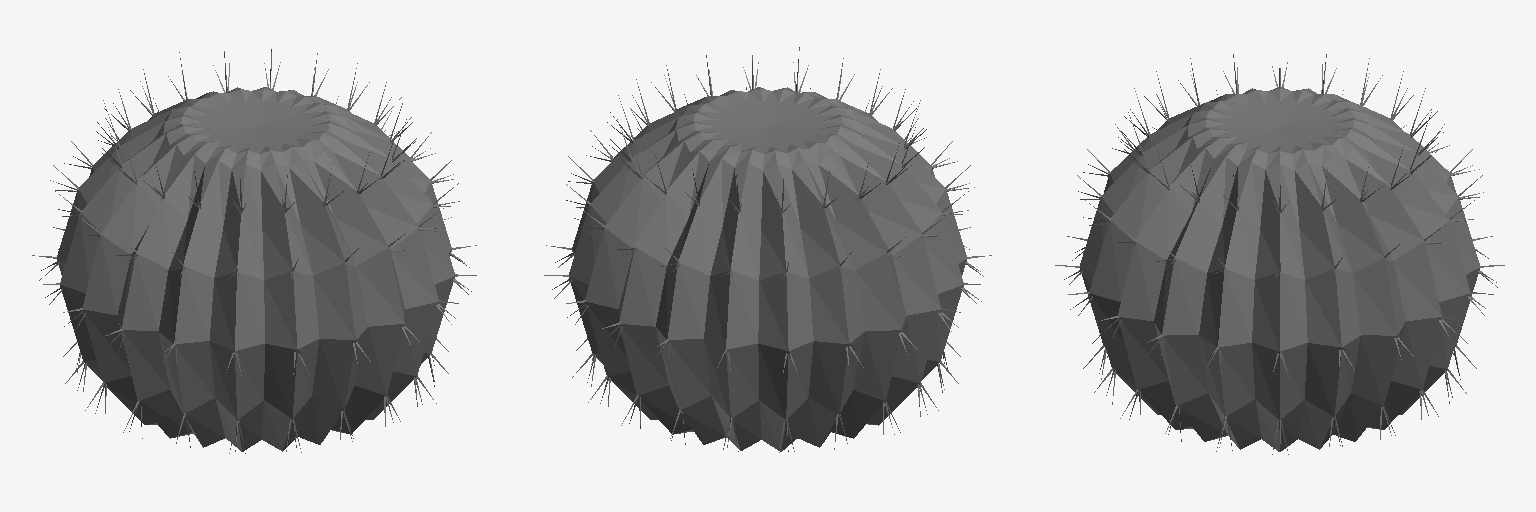
File: BarrelCactus.obj
3 renders of one model, left to right at view 1: azimuth 30°, elevation 25°; view 2: azimuth 150°, elevation 25°; view 3: azimuth 270°, elevation 25°, orthographic.
Parts seen in each view (by area): view 1: BarrelCactus_mesh; view 2: BarrelCactus_mesh; view 3: BarrelCactus_mesh.
Boxes of the visible parts, x1,y1,x2,y2 form: BarrelCactus_mesh: [32, 49, 476, 453]; BarrelCactus_mesh: [544, 47, 991, 452]; BarrelCactus_mesh: [1055, 54, 1504, 454].
Size of the model in its own units: 6.92 by 5.02 by 6.92.